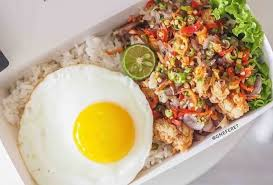ayam_geprek: (133, 4, 267, 143)
